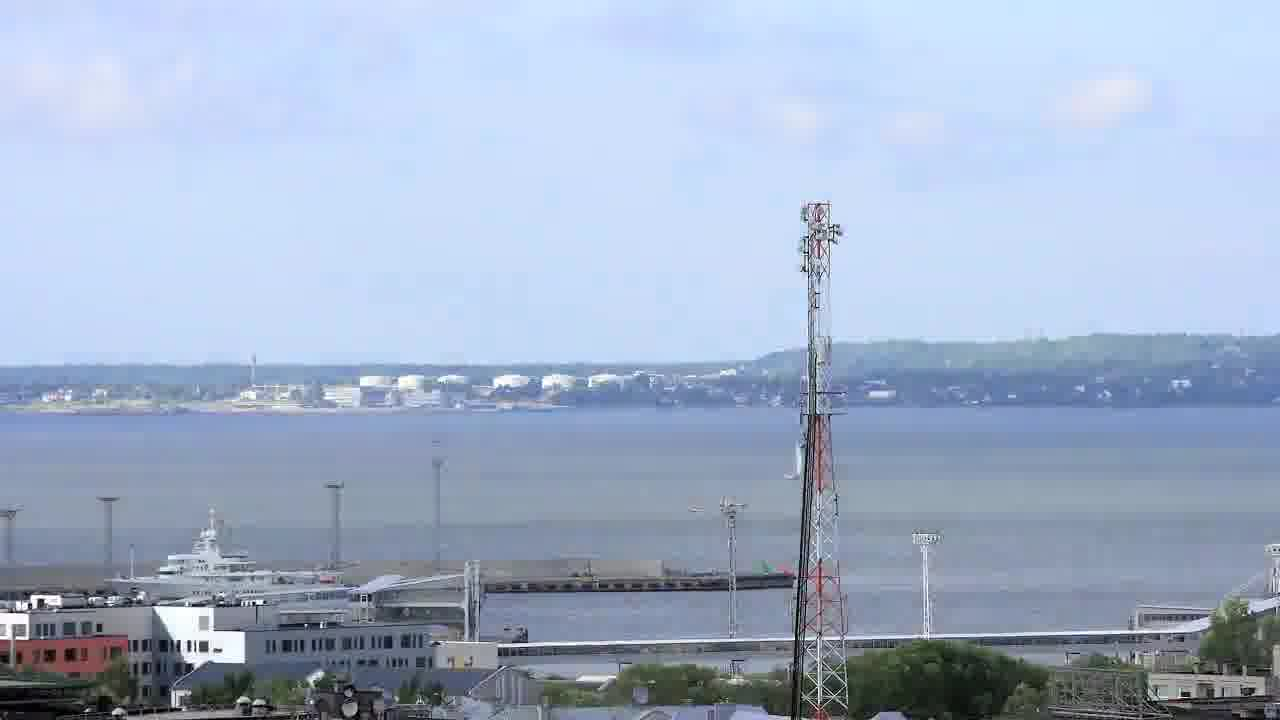type-2: (778, 430, 825, 498)
type-3: (84, 515, 355, 603)
